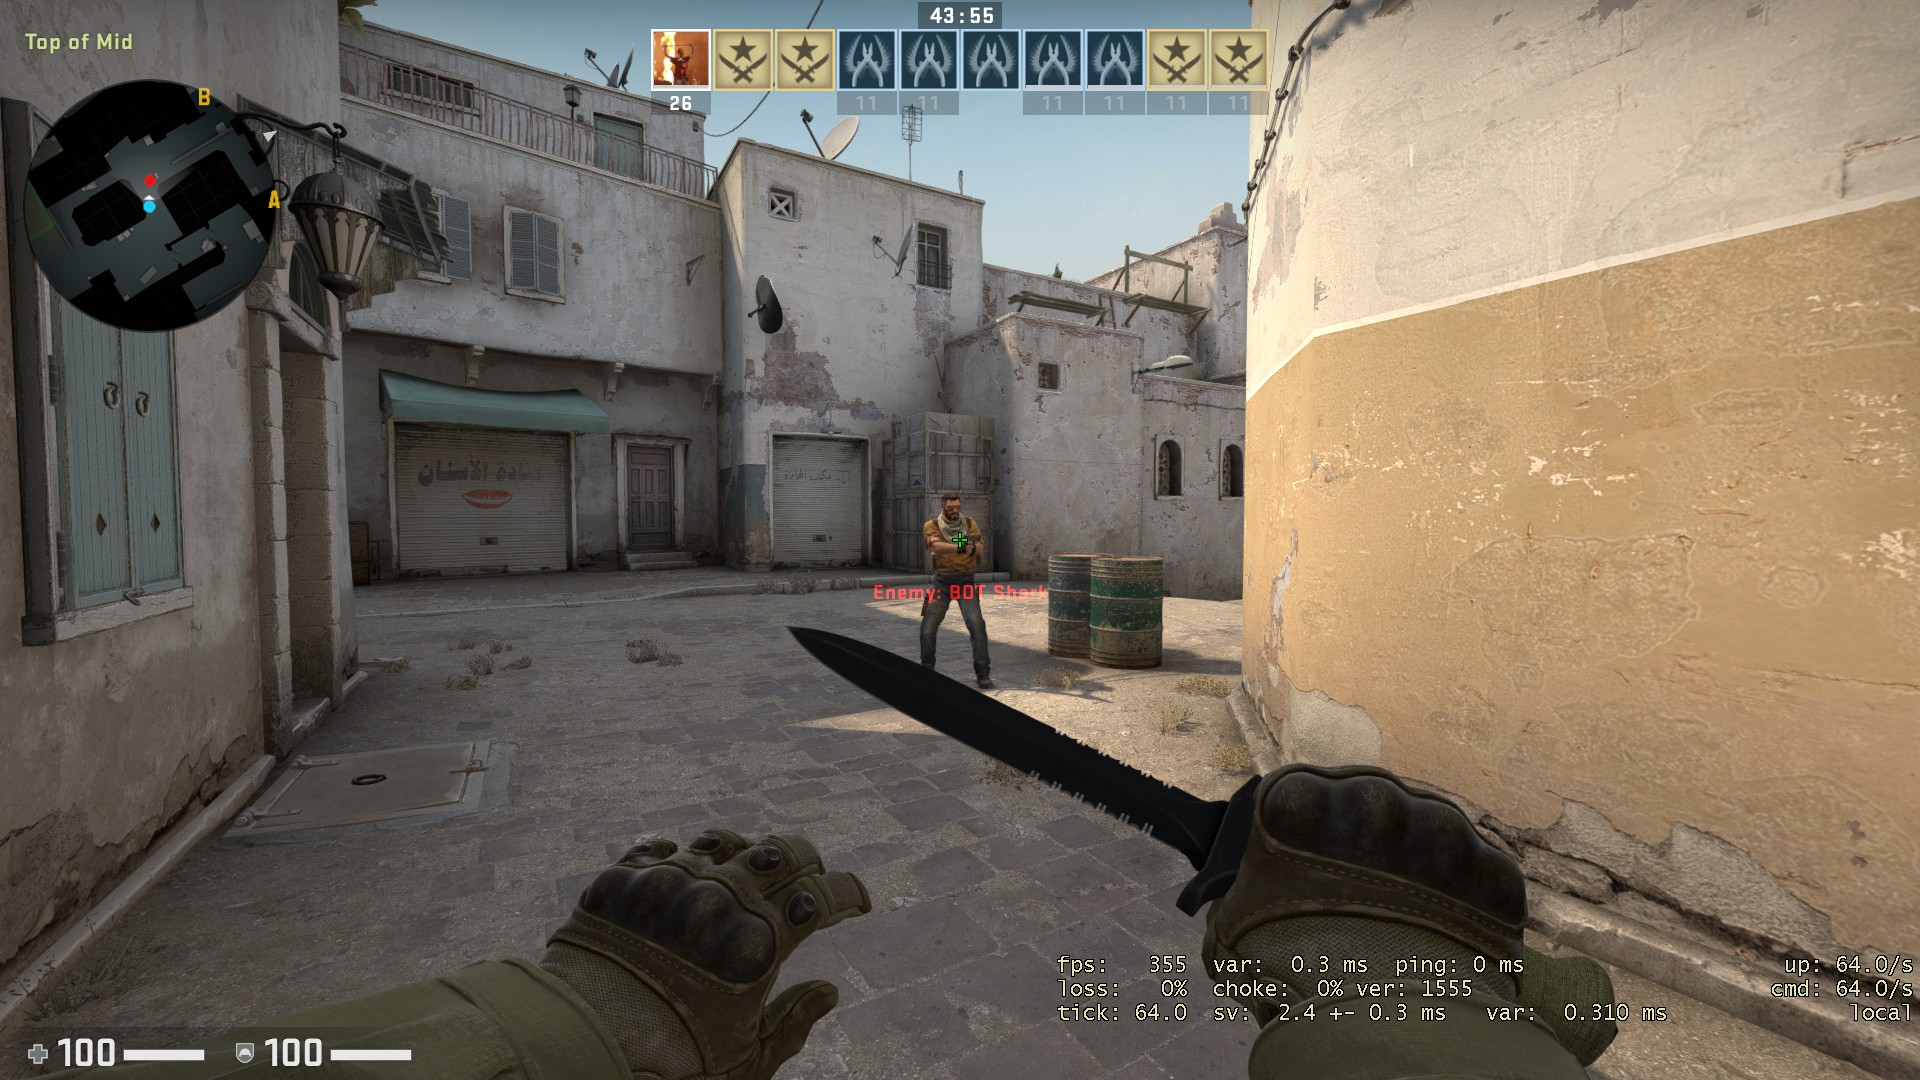player: (913, 482, 1003, 696)
